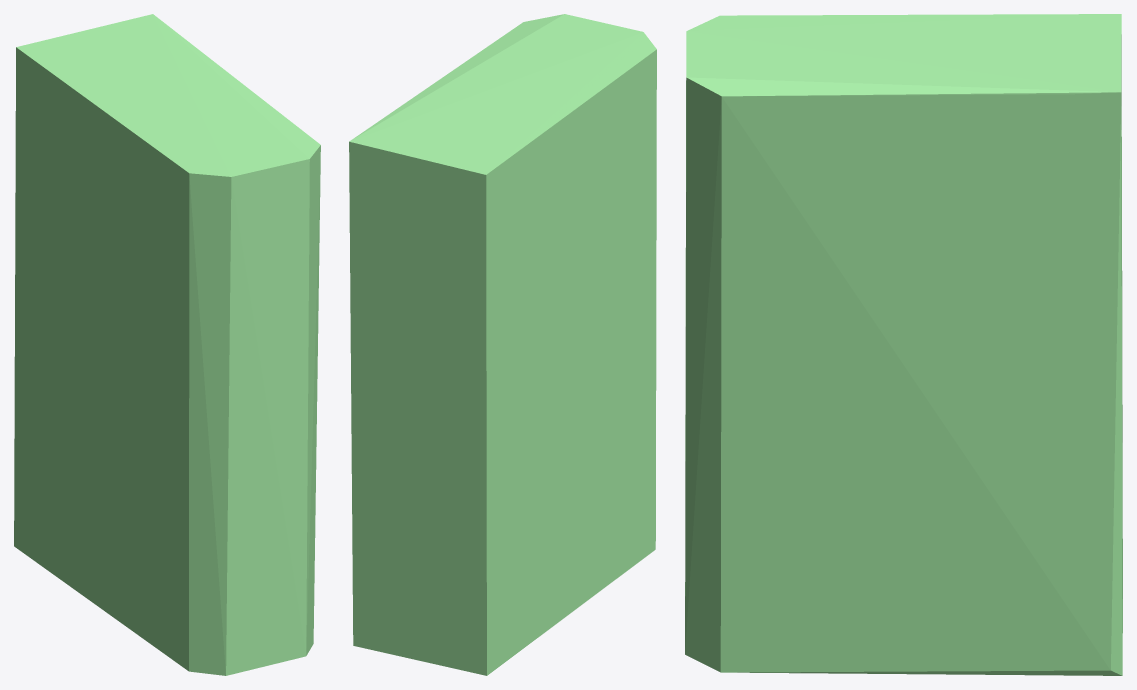
The model's file is panda_leftFinger_coll_6.dae.
3 views of the same model, side by side, from view 1: azimuth 30°, elevation 25°; view 2: azimuth 150°, elevation 25°; view 3: azimuth 270°, elevation 25° (orthographic). The views are drawn at different scales.
Visible parts, largest first — view 1: node; view 2: node; view 3: node.
Part boxes in pixels (<box>): node: <box>14,14,320,675</box>; node: <box>349,14,656,675</box>; node: <box>685,14,1122,675</box>.
Bounding box in the file's own units: 0.00603 × 0.0209 × 0.0141.
